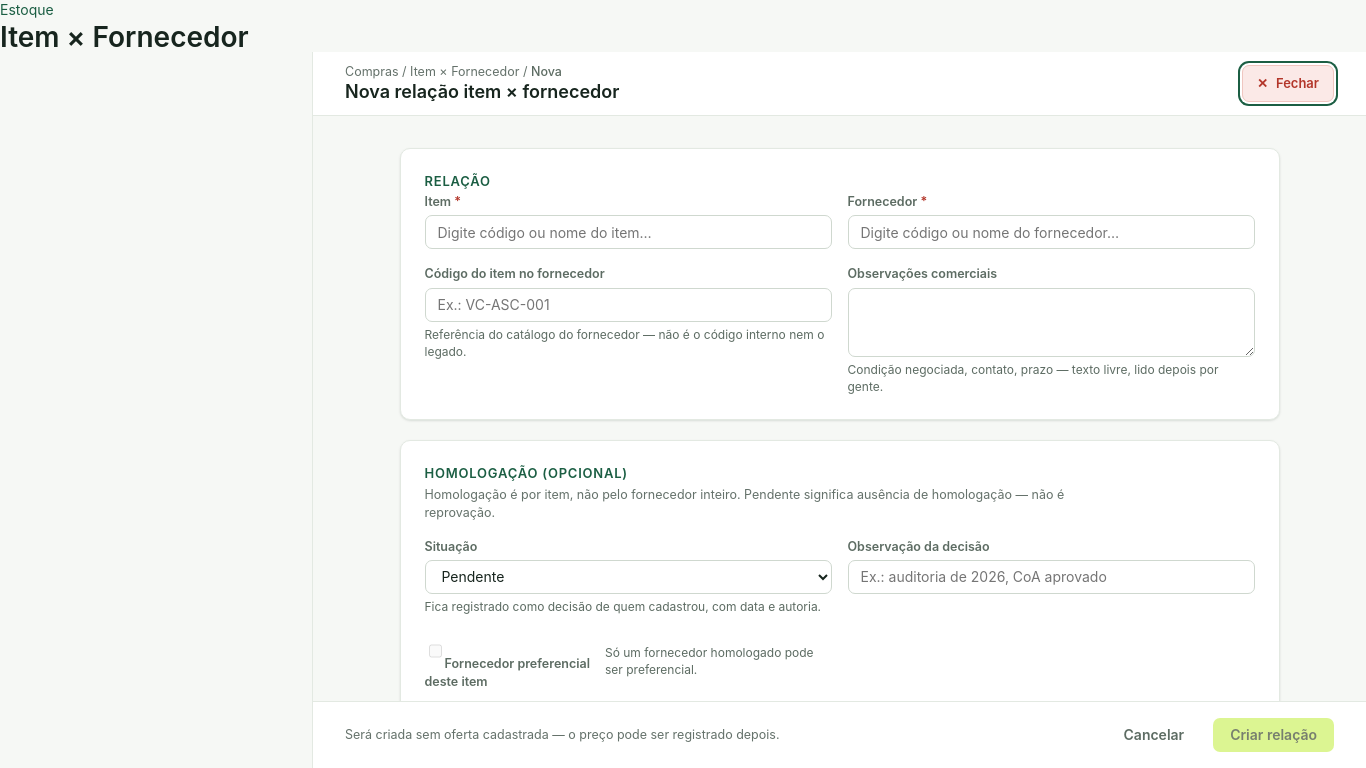
Test: Item × Fornecedor — navegação pelo menu › modal com alteração pergunta antes de sair
Expected: the heading "Nova relação item × fornecedor" is shown, [345, 81, 619, 104]
Type "COD-FOR-9" into the field with id "supplier-item-code" at (628, 304), box [424, 288, 832, 322]
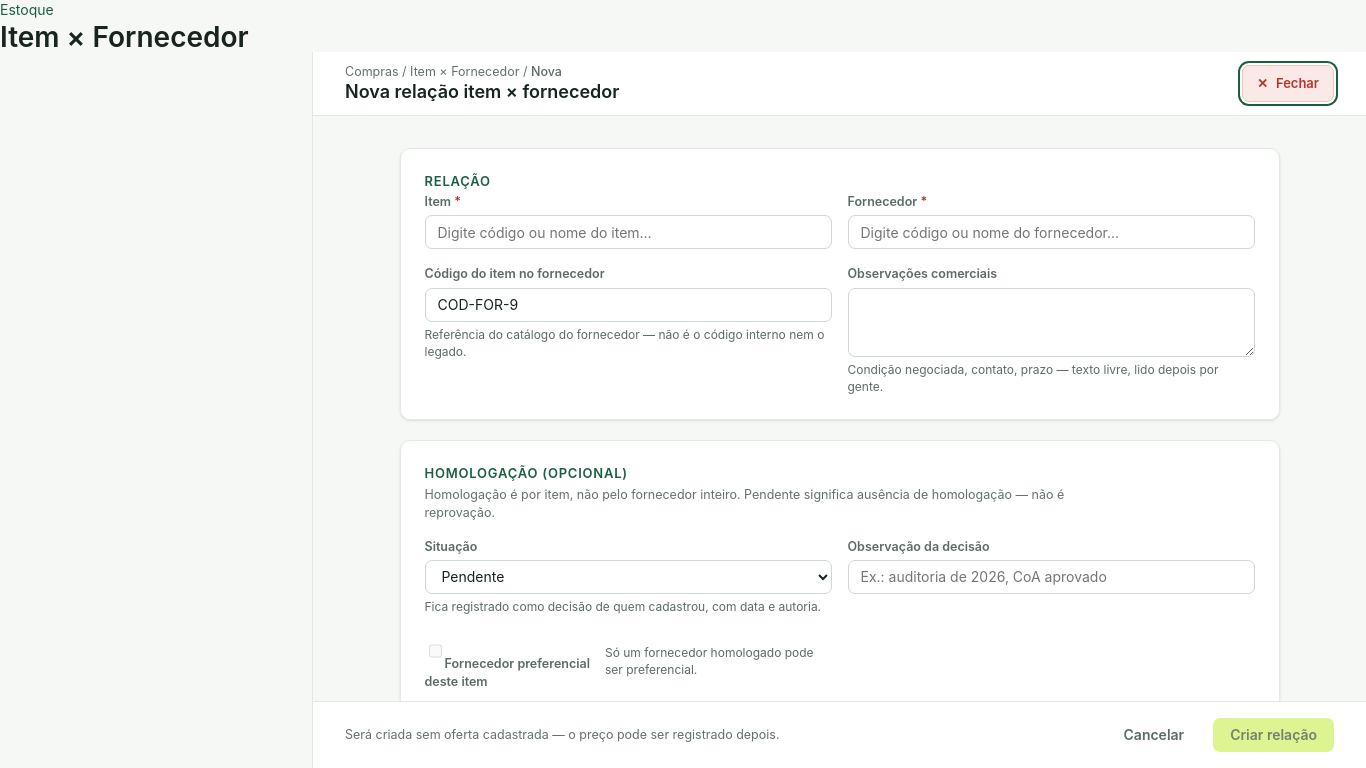
Click the link "Estoque" at (27, 10), box [0, 1, 54, 18]
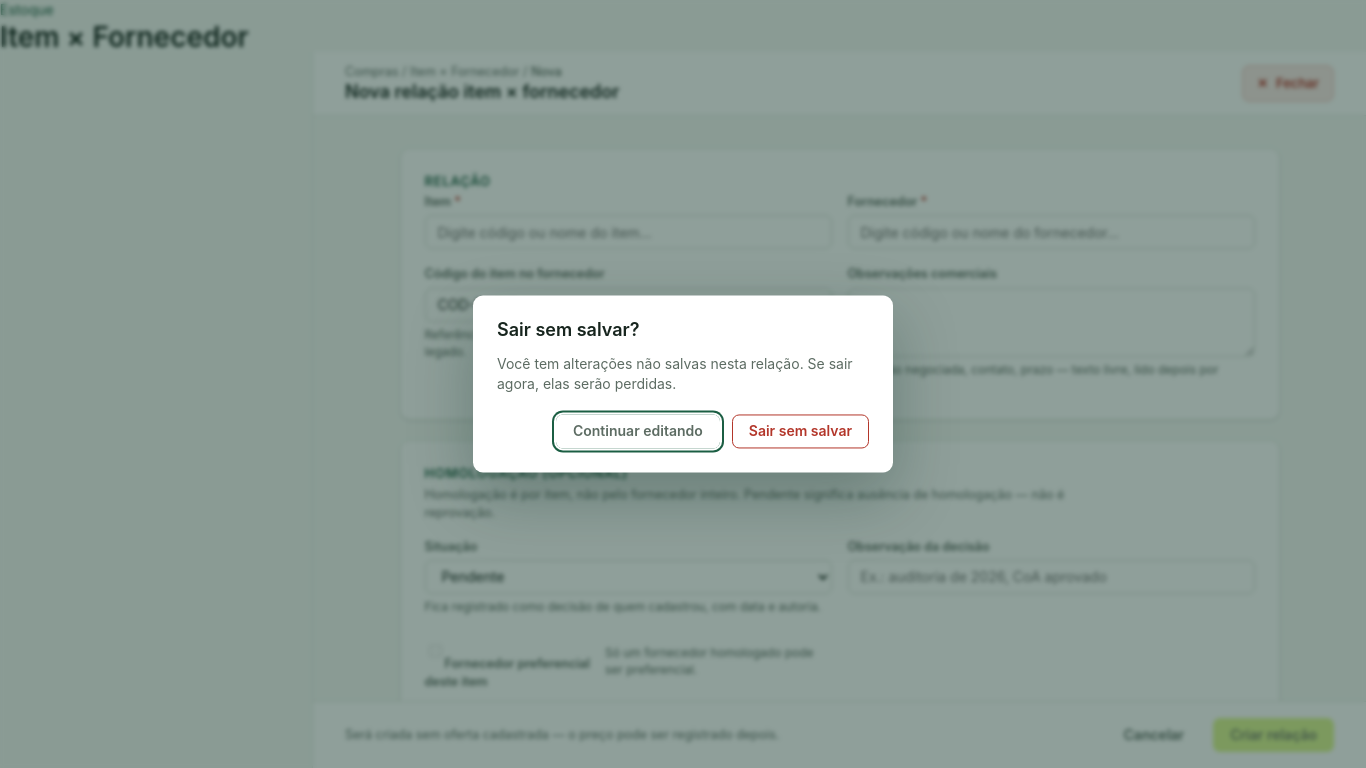
Expected: the heading "Sair sem salvar?" is shown, [497, 320, 640, 340]
Expected: the text "alterações não salvas nesta relação" is shown, [497, 354, 869, 395]
